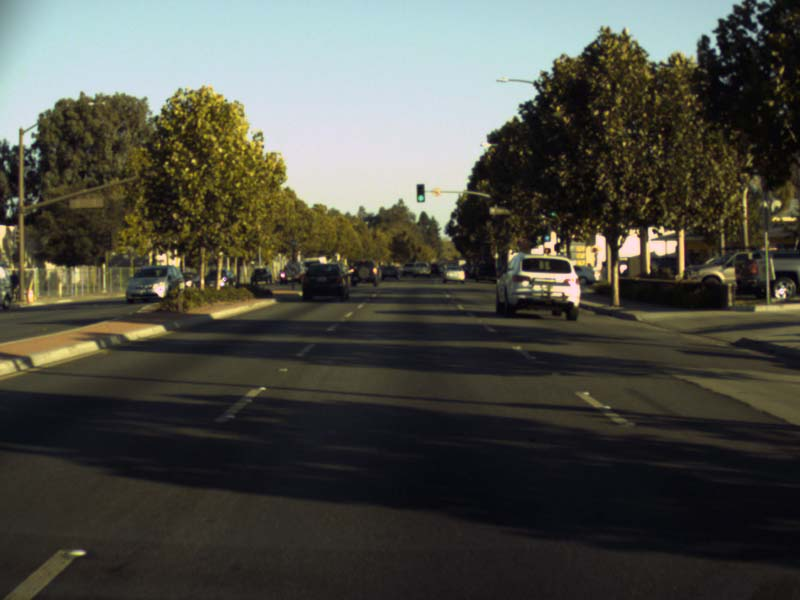Green: (417, 184, 424, 202), (542, 224, 548, 241)
